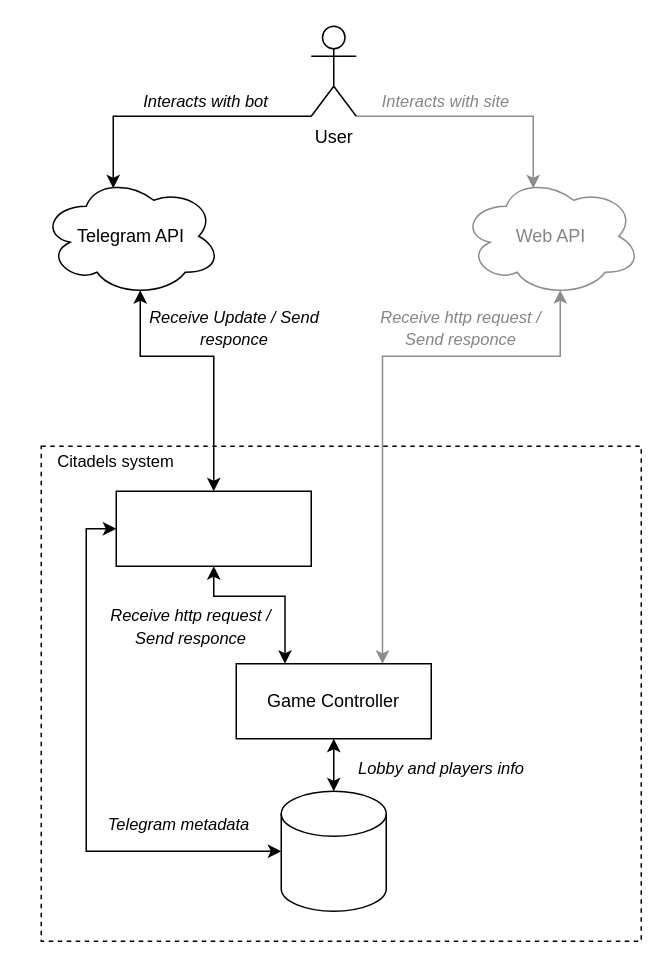
Image size: 668x968. Some labels were removed from this diagram. The shapes that lost their labels are listed below. From the top down, each one's centre as x and y in pixels, then its label:
At point 213,528: "Update Gateway (Handlers)".
At point 333,850: "Mongo DB".
